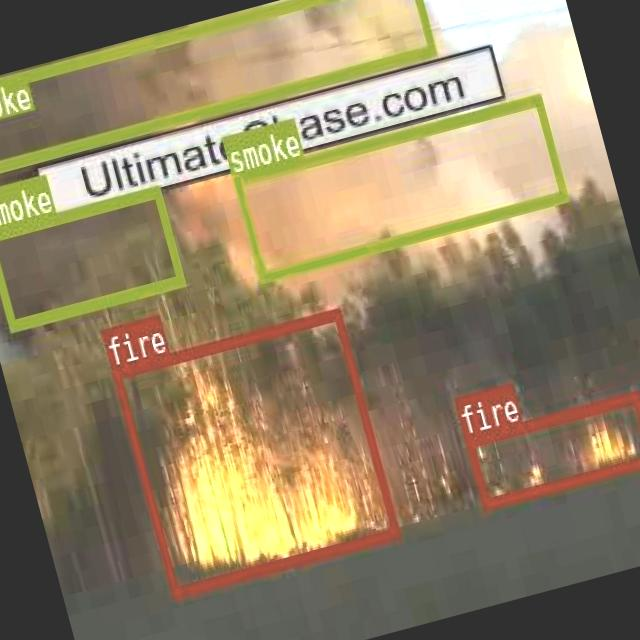fire: (110, 308, 399, 596), (462, 388, 640, 508)
smoke: (0, 0, 435, 175), (230, 91, 567, 281), (0, 183, 183, 330)
